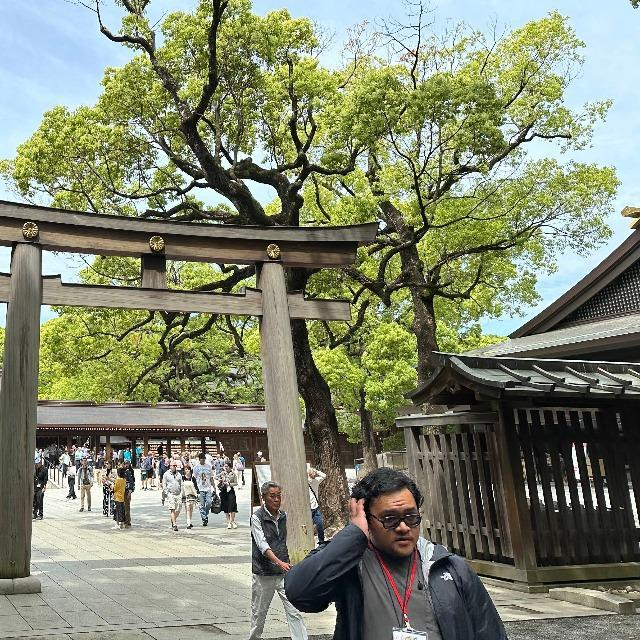NoHelmet: (351, 467, 431, 557)
